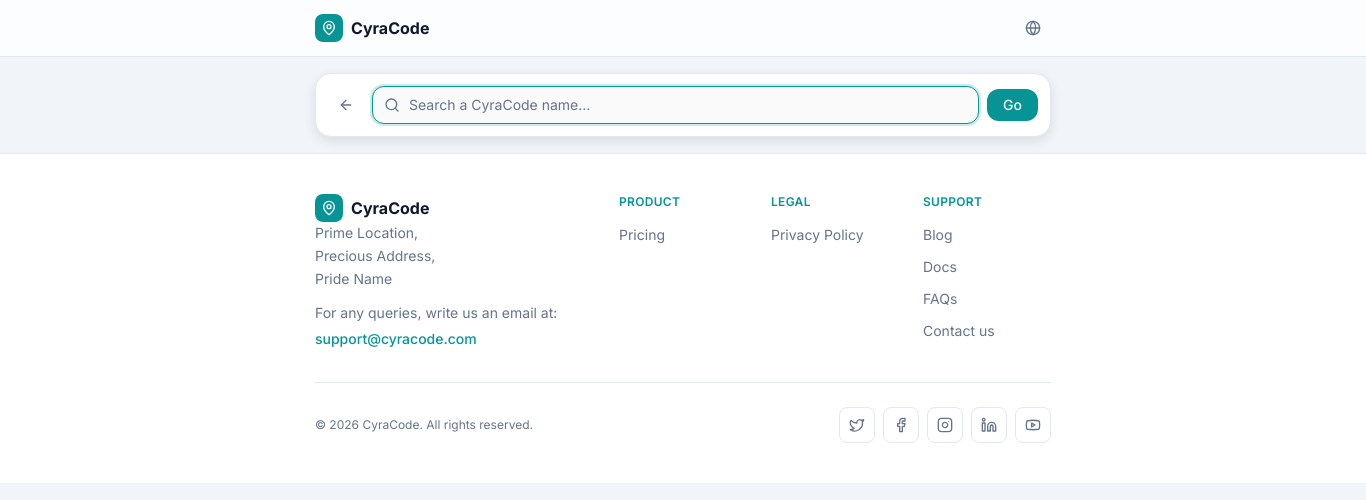
SearchPage — autocomplete › hides suggestions for empty query
Type "T" into the field with placeholder "Search a CyraCode name…" at (676, 105), box x1=372 y1=86 x2=979 y2=124
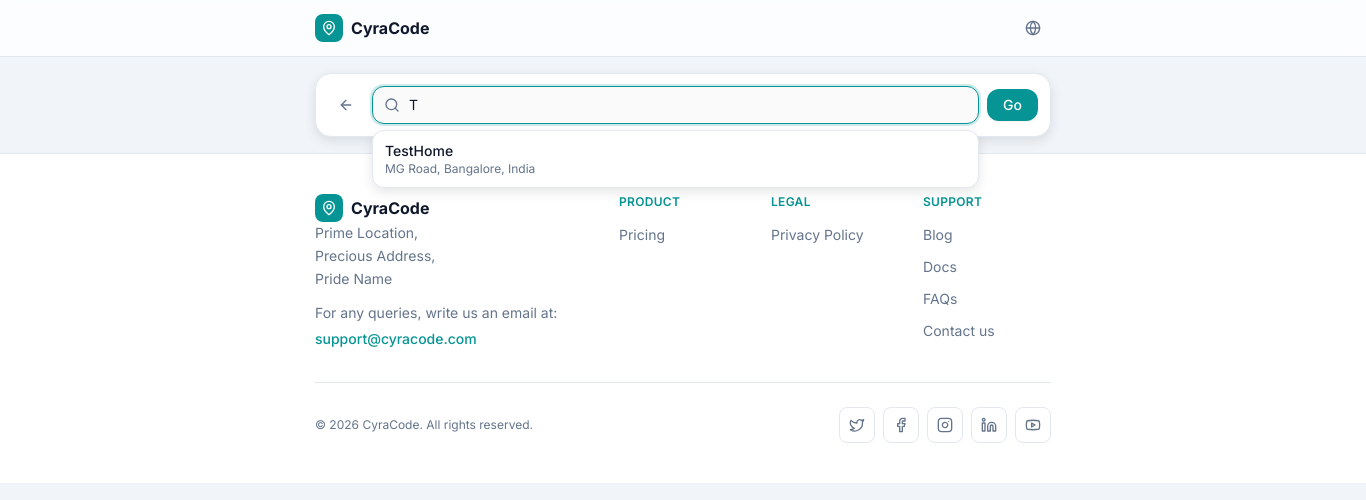
Now the text "TestHome" is shown, box x1=385 y1=141 x2=453 y2=161
Clear the field with placeholder "Search a CyraCode name…" at (676, 105), box x1=372 y1=86 x2=979 y2=124
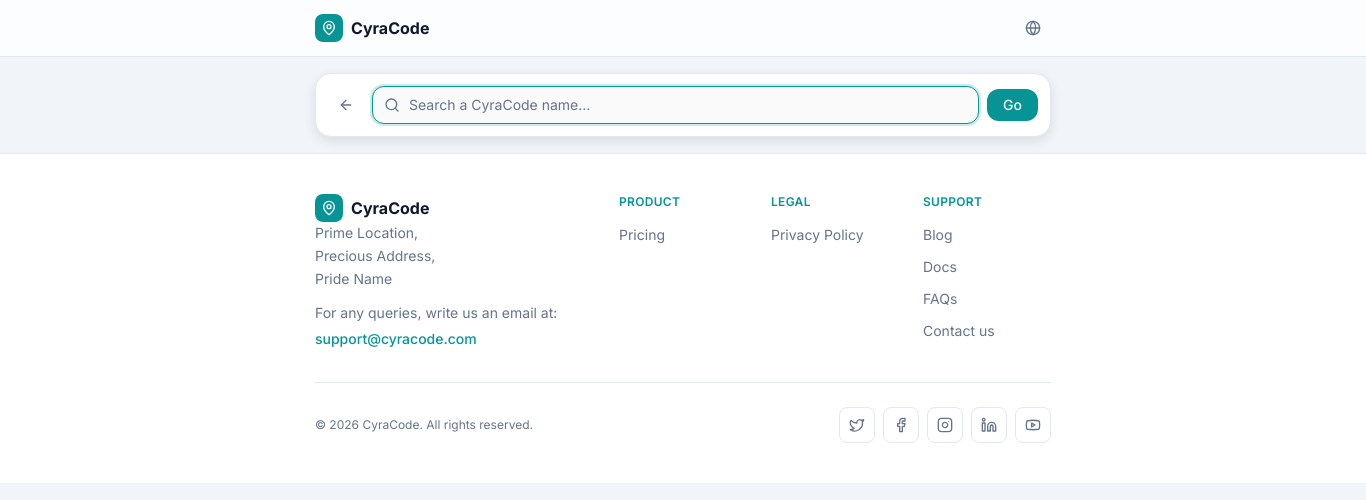
Now the button "TestHome" is gone
